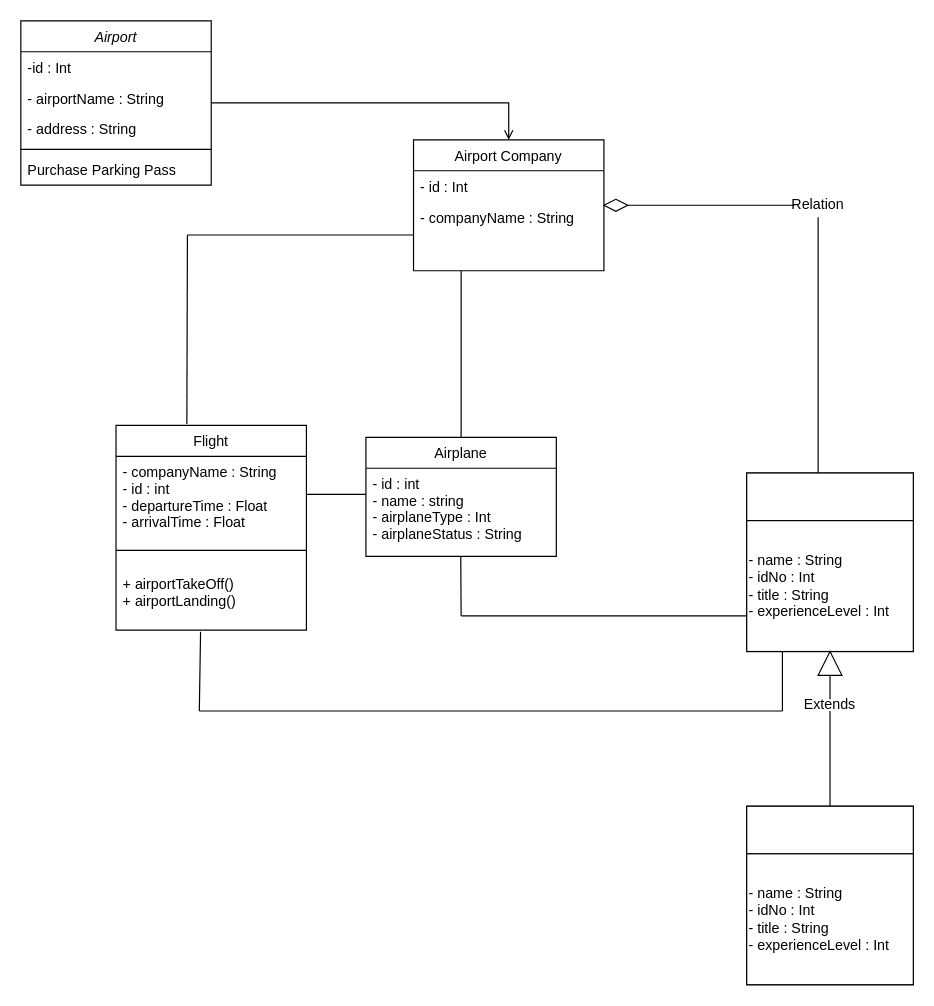
Image size: 934x1006. Some labels were removed from this diagram. Each missing label, with the centre of its shape:
CO - Pilot: point (829, 829)
Pilot: point (829, 496)
